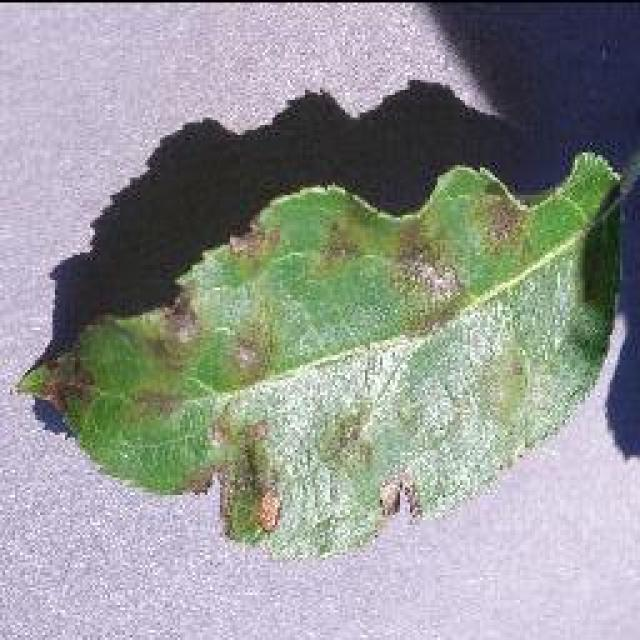apple scab disease: (28, 142, 630, 560)
